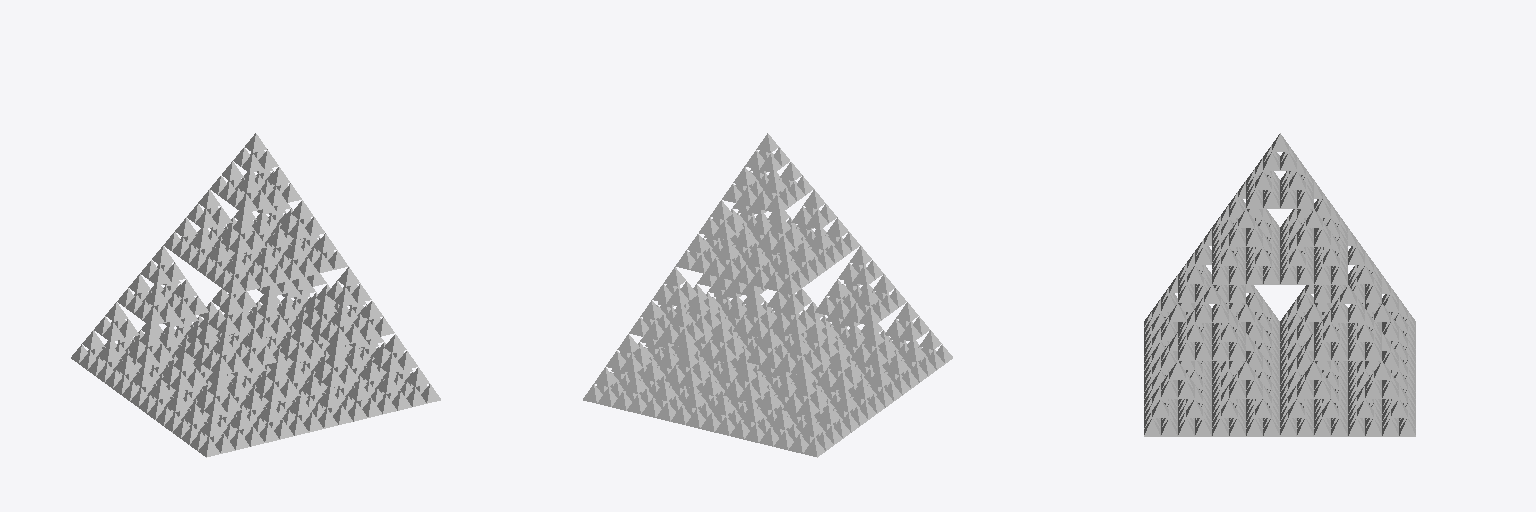
Rendered from SirpPyram.obj.
3 views of the same model, side by side, from view 1: azimuth 30°, elevation 25°; view 2: azimuth 150°, elevation 25°; view 3: azimuth 270°, elevation 25° (orthographic).
Bounding box in the file's own units: 16.01 × 16 × 16.03.